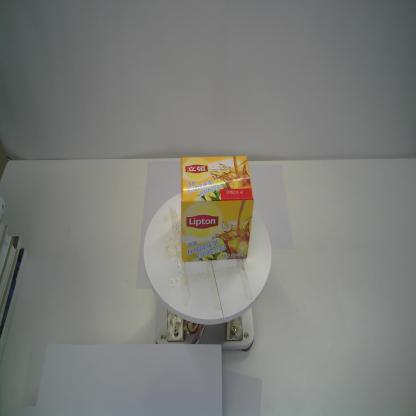Instant Drink: (179, 155, 255, 262)
